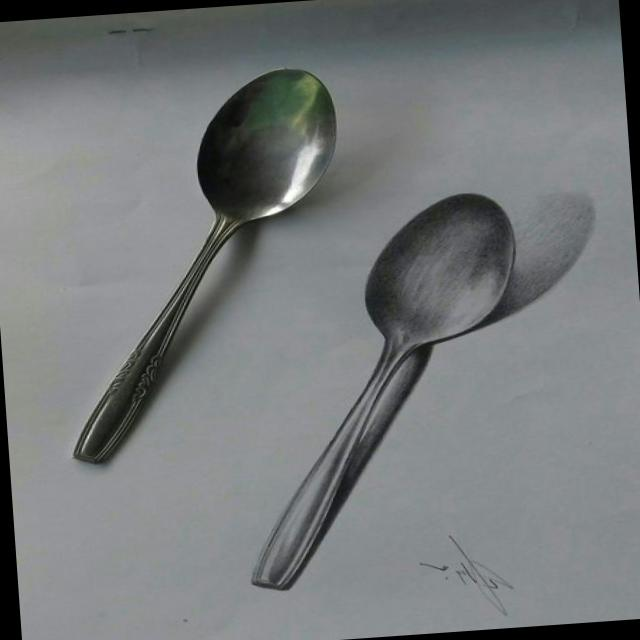spoon: (53, 33, 354, 475)
